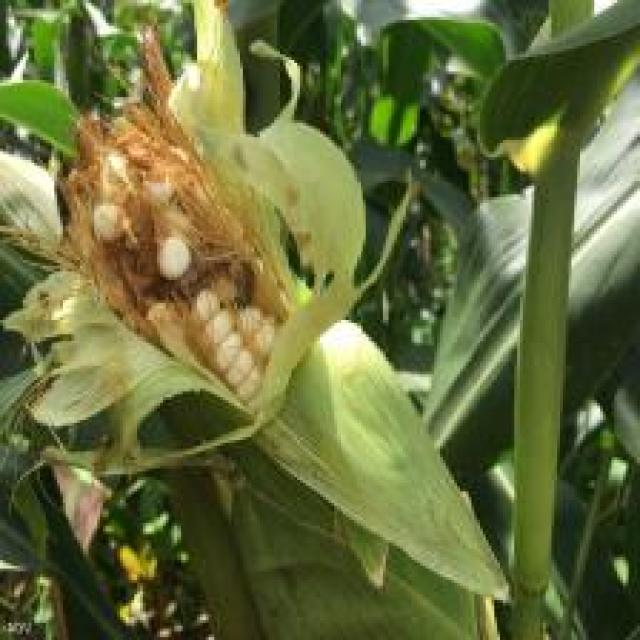Plaga: (140, 224, 260, 347)
